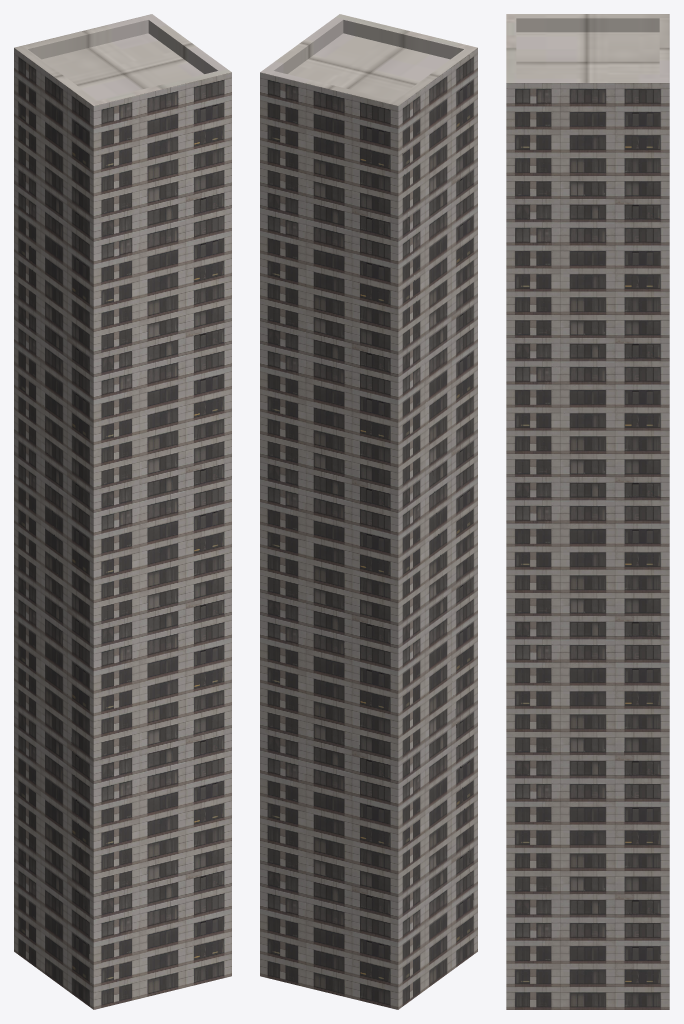
File: sky_scraper.obj
3 renders of one model, left to right at view 1: azimuth 30°, elevation 25°; view 2: azimuth 150°, elevation 25°; view 3: azimuth 270°, elevation 25°, orthographic. The views are drawn at different scales.
Visible parts, largest first — view 1: Cube; view 2: Cube; view 3: Cube.
Part boxes in pixels (x1,y1,x2,y2): Cube: [14, 14, 231, 1009]; Cube: [260, 14, 477, 1009]; Cube: [506, 14, 669, 1009].
Bounding box in the file's own units: 32 × 200 × 32.
